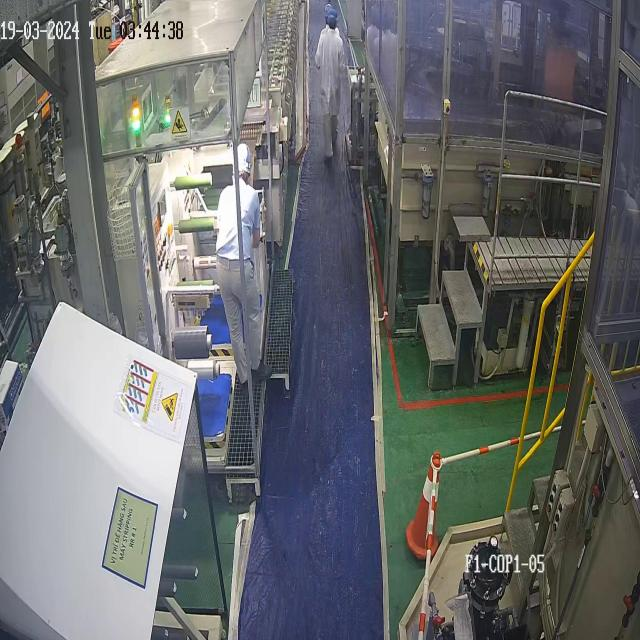Person: (215, 142, 270, 386), (314, 5, 345, 164)
